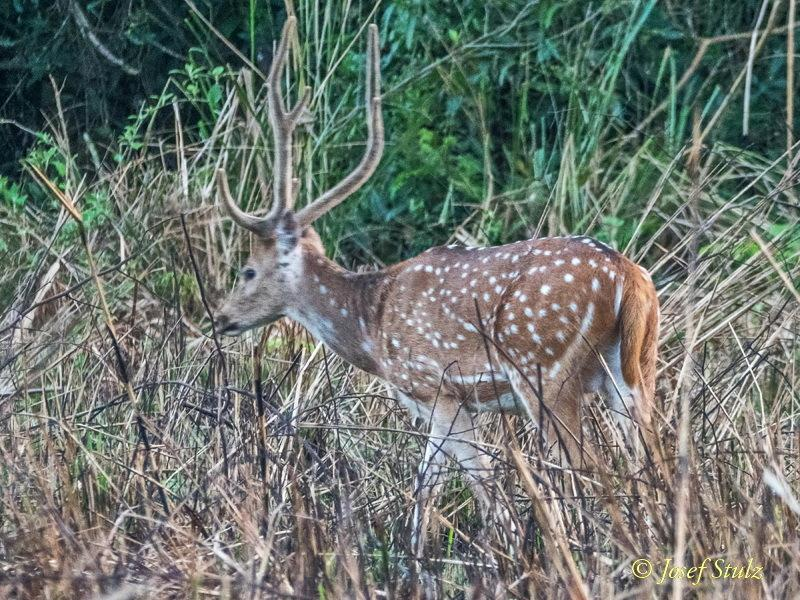Deer: (216, 9, 658, 489)
